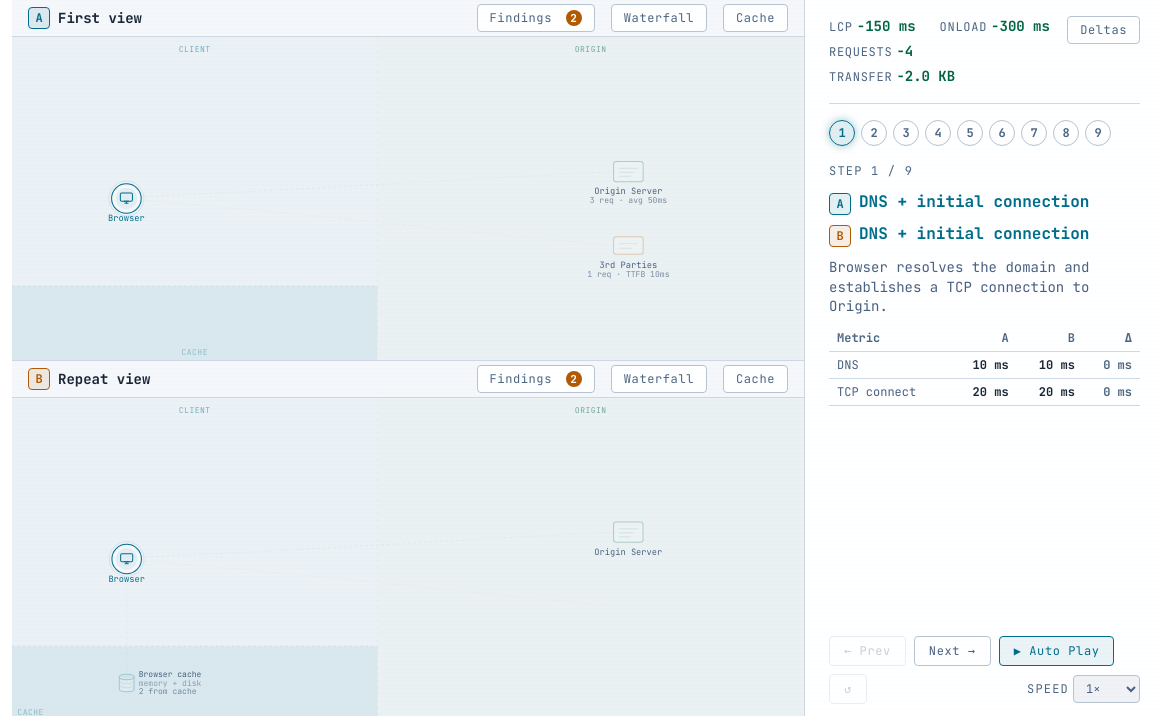
Scenario: CompareView › Deltas panel › notes how to read the deltas, numbered on the metrics and hosts they touch
Click the button with aria-label "Toggle deltas" at (1104,30), box [1067,16,1140,44]
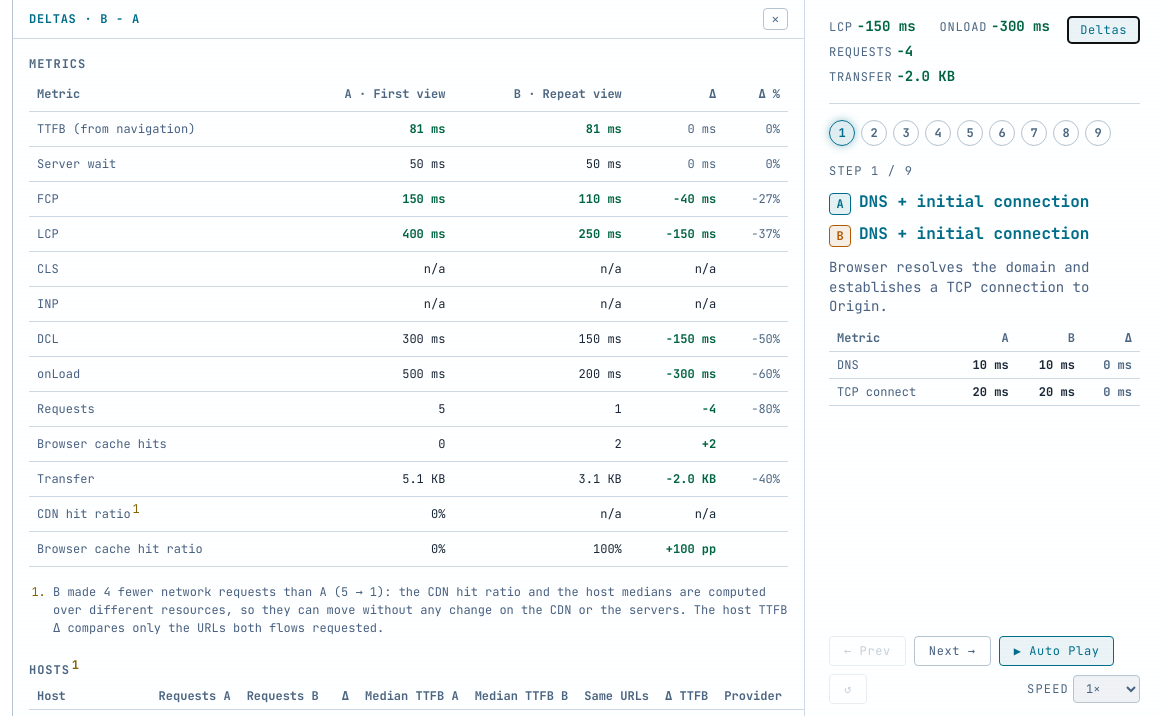
Now the element showing "1" next to "Hosts" is shown, box [72,657,80,673]
